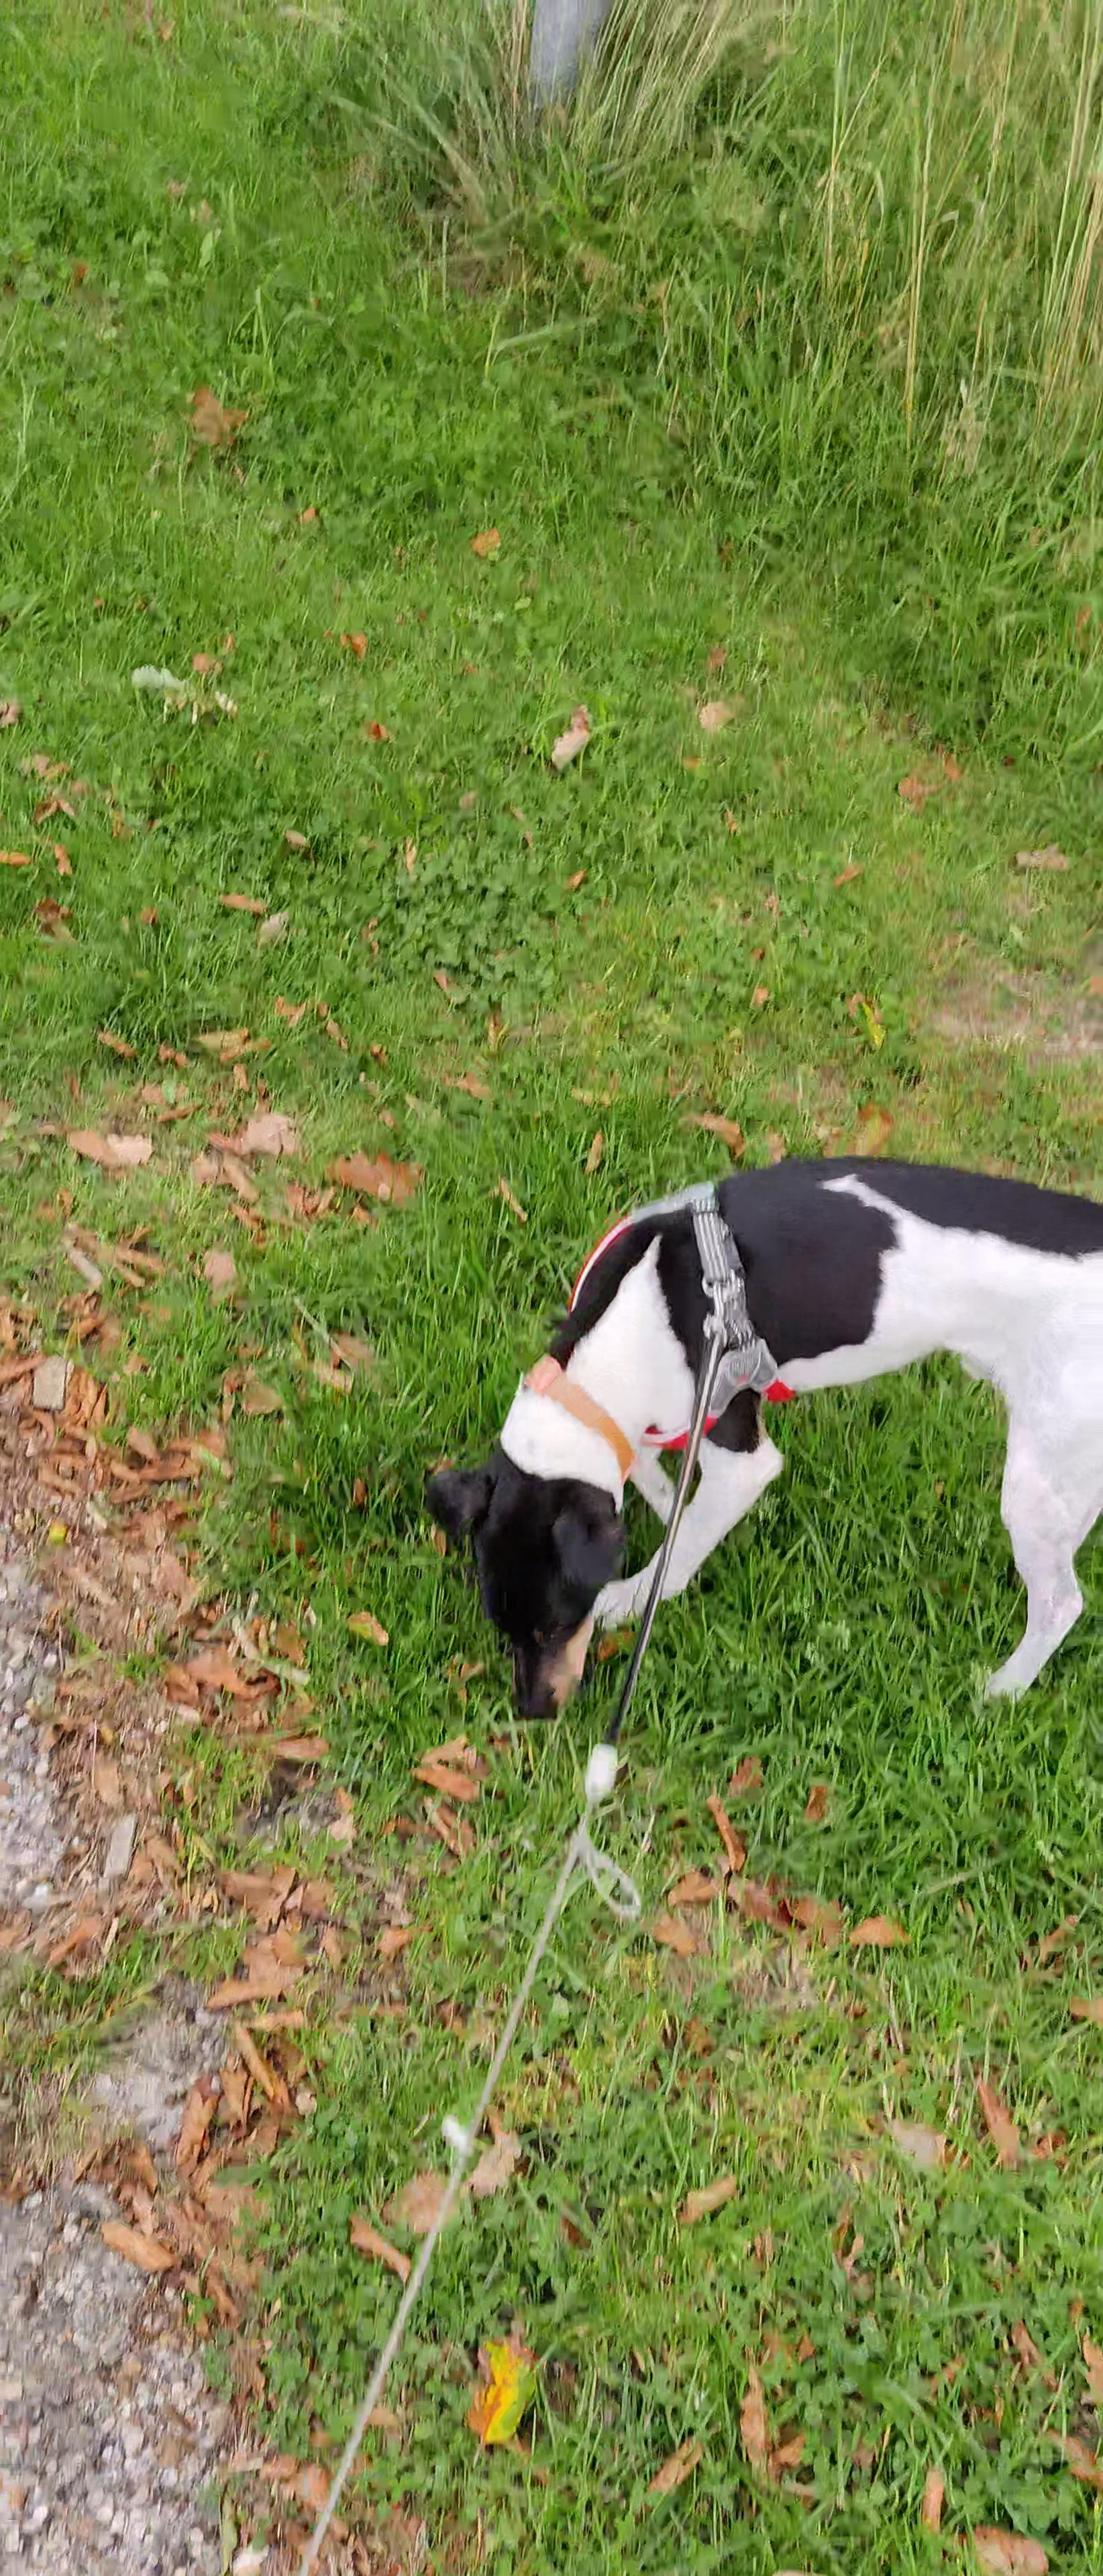Dog: (408, 1125, 1103, 1732)
